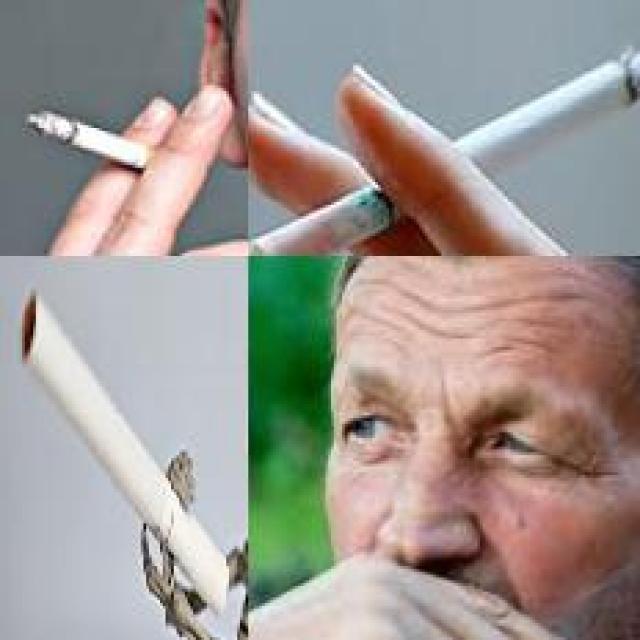smoking: (248, 45, 638, 254), (17, 284, 230, 620), (23, 108, 180, 179)
